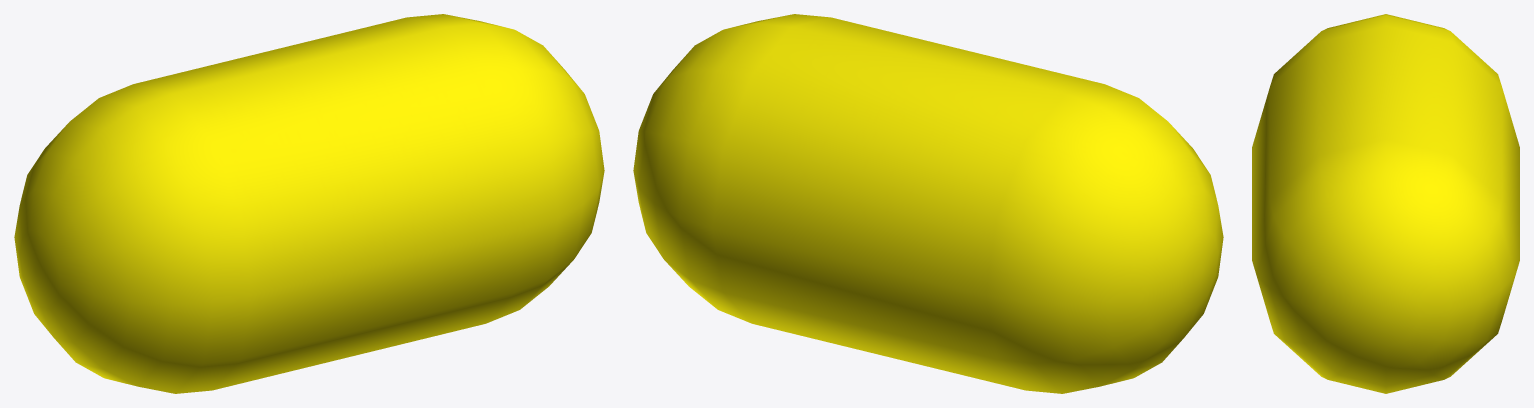
The model's file is star1.obj.
3 renders of one model, left to right at view 1: azimuth 30°, elevation 25°; view 2: azimuth 150°, elevation 25°; view 3: azimuth 270°, elevation 25°, orthographic. The views are drawn at different scales.
Visible parts, largest first — view 1: Capsule01; view 2: Capsule01; view 3: Capsule01.
Part boxes in pixels (<box>): Capsule01: <box>14,14,604,393</box>; Capsule01: <box>633,14,1223,393</box>; Capsule01: <box>1252,14,1519,393</box>.
Bounding box in the file's own units: 56.4 × 28.22 × 28.22.
Materials: 1 (1 with a texture image).
